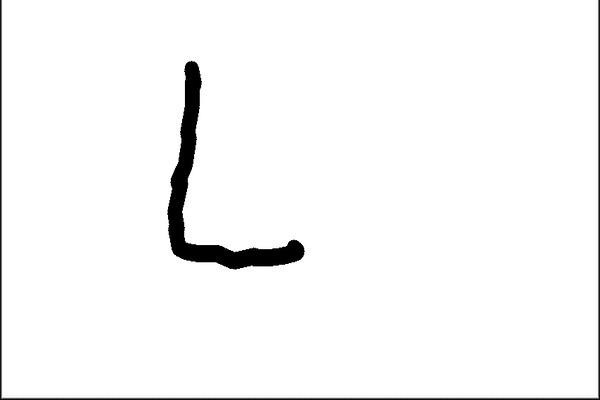L: (159, 55, 311, 278)
